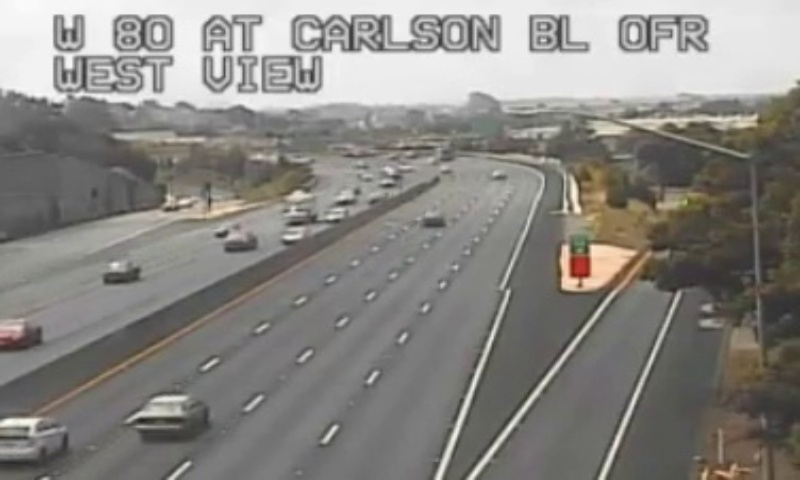car: (2, 416, 68, 463), (134, 396, 208, 433)
